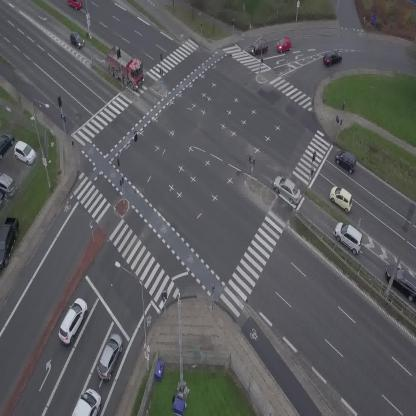car: (54, 295, 92, 346), (93, 332, 127, 382), (329, 218, 370, 256), (269, 172, 306, 206), (325, 183, 358, 213), (332, 147, 360, 174), (320, 47, 344, 68), (65, 29, 86, 51), (275, 37, 293, 54), (249, 39, 268, 54), (68, 0, 82, 9)
lorry: (98, 42, 152, 93), (71, 386, 107, 416)
